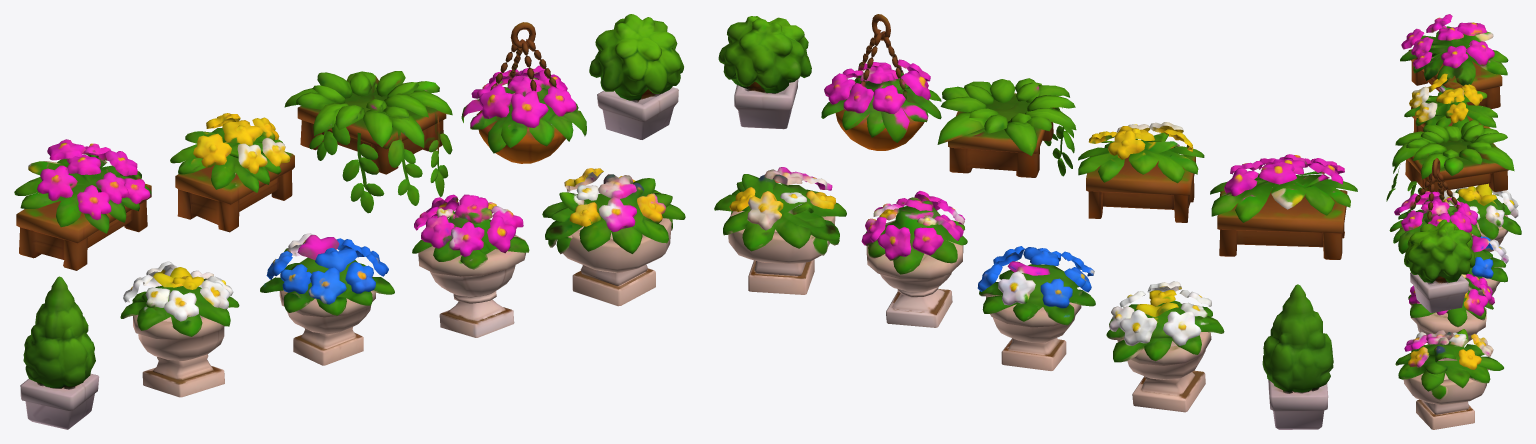
The model's file is sheet_source.glb.
The picture shows the model from 3 angles, left to right: view 1: azimuth 30°, elevation 25°; view 2: azimuth 150°, elevation 25°; view 3: azimuth 270°, elevation 25°; orthographic projection. The views are drawn at different scales.
Parts seen in each view (by area): view 1: tripo_node_b90a7530-5050-4a1d-a3f2-59e9bb3b5dac; view 2: tripo_node_b90a7530-5050-4a1d-a3f2-59e9bb3b5dac; view 3: tripo_node_b90a7530-5050-4a1d-a3f2-59e9bb3b5dac.
Boxes of the visible parts, x1,y1,x2,y2 form: tripo_node_b90a7530-5050-4a1d-a3f2-59e9bb3b5dac: (14,14,685,429); tripo_node_b90a7530-5050-4a1d-a3f2-59e9bb3b5dac: (714,14,1357,429); tripo_node_b90a7530-5050-4a1d-a3f2-59e9bb3b5dac: (1386,14,1521,429).
Bounding box in the file's own units: 0.9995 × 0.4458 × 0.2368.
Materials: 1 (1 with a texture image).
